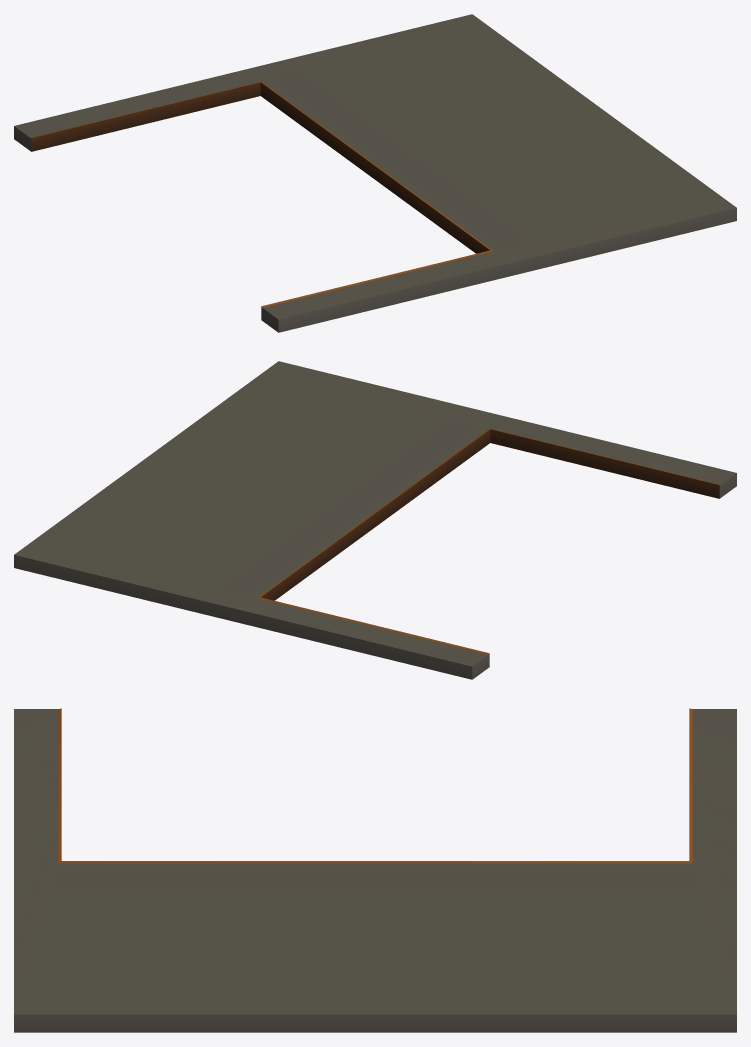
Rendered from TSP_House_Floor_Small_01C_Open_Side.fbx.
The picture shows the model from 3 angles, top to bottom: view 1: azimuth 30°, elevation 25°; view 2: azimuth 150°, elevation 25°; view 3: azimuth 270°, elevation 25°; orthographic projection. The views are drawn at different scales.
Parts seen in each view (by area): view 1: TSP_House_Floor_Small_01C_Open_Side; view 2: TSP_House_Floor_Small_01C_Open_Side; view 3: TSP_House_Floor_Small_01C_Open_Side.
Part boxes in pixels (bbox=[...]): TSP_House_Floor_Small_01C_Open_Side: bbox=[14, 14, 736, 332]; TSP_House_Floor_Small_01C_Open_Side: bbox=[14, 361, 736, 679]; TSP_House_Floor_Small_01C_Open_Side: bbox=[14, 708, 736, 1032].
Size of the model in its own units: 4 by 0.115 by 4.
